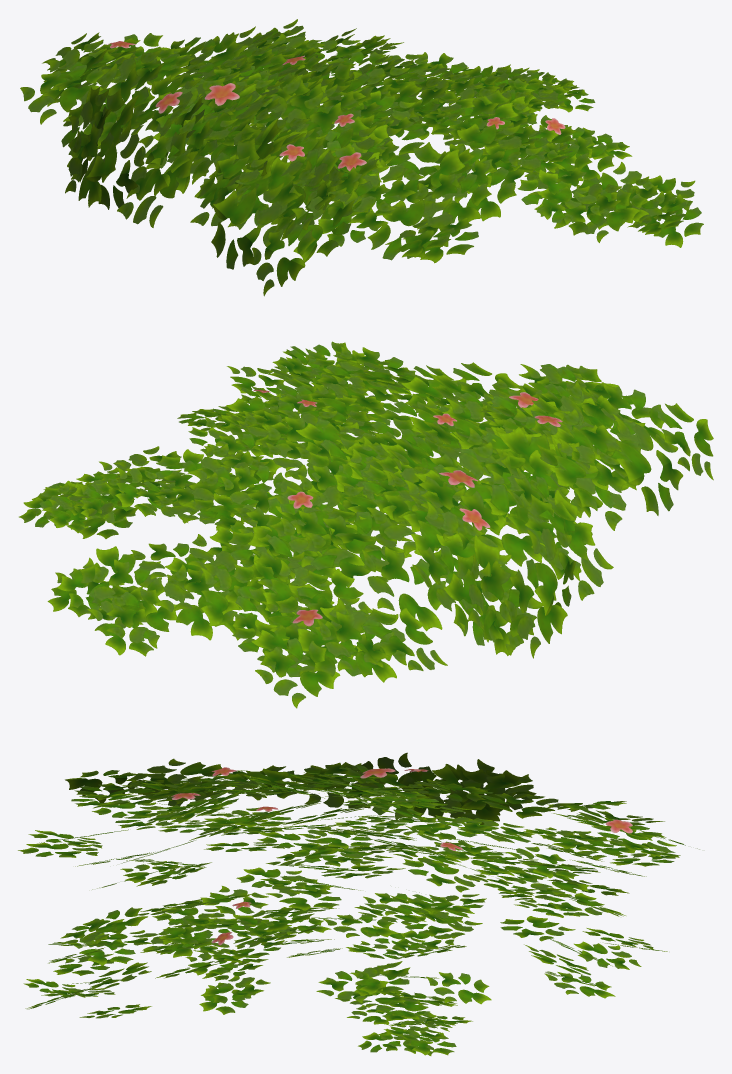
Rendered from P_IvyCoastal05.obj.
The picture shows the model from 3 angles, top to bottom: view 1: azimuth 30°, elevation 25°; view 2: azimuth 150°, elevation 25°; view 3: azimuth 270°, elevation 25°; orthographic projection. The views are drawn at different scales.
Bounding box in the file's own units: 7.03 × 1.77 × 8.49.
